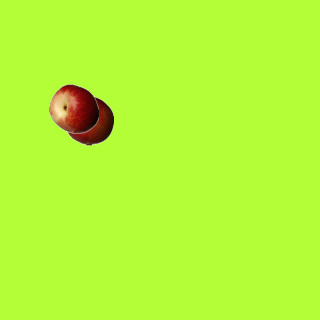Apple Braeburn: (63, 95, 113, 145)
Nectarine: (48, 83, 98, 133)
